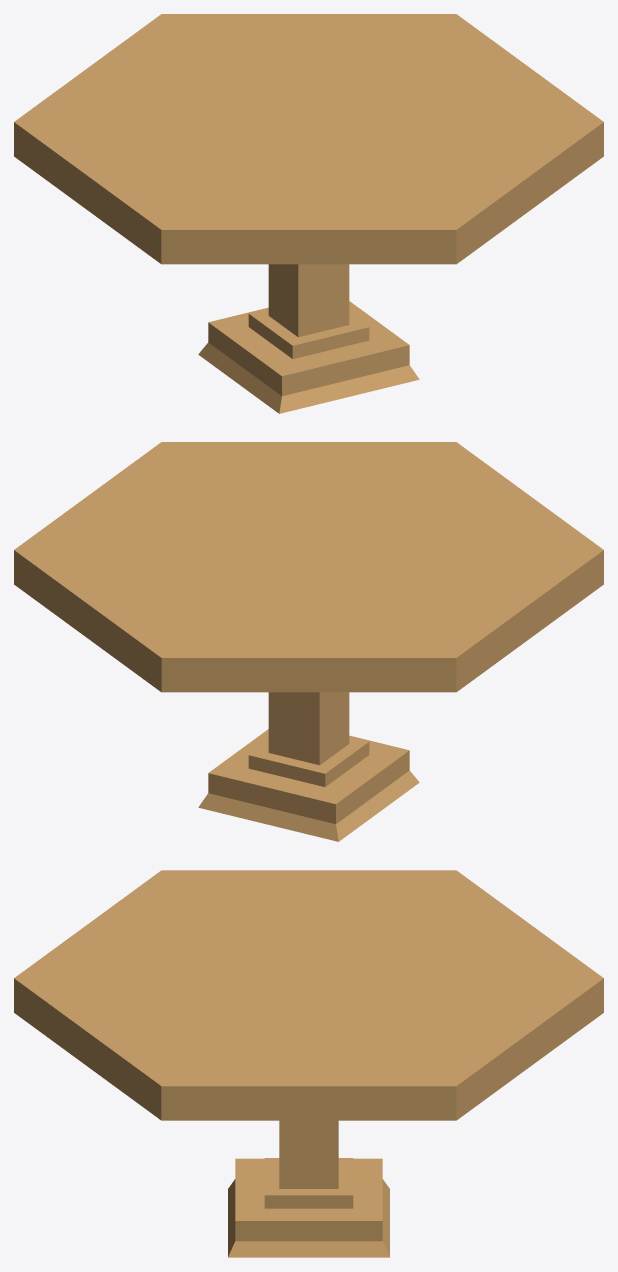
The model's file is tableRound.glb.
The picture shows the model from 3 angles, top to bottom: view 1: azimuth 30°, elevation 25°; view 2: azimuth 150°, elevation 25°; view 3: azimuth 270°, elevation 25°; orthographic projection.
Bounding box in the file's own units: 6.93 × 3.67 × 8.
